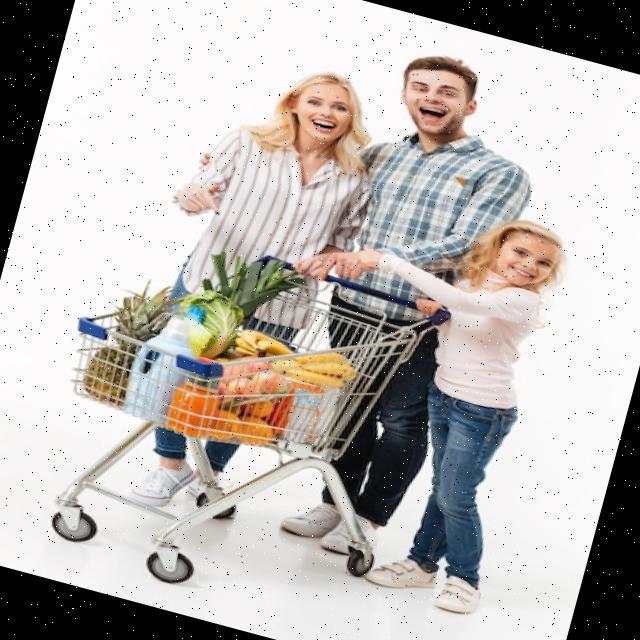Person: (252, 38, 558, 578), (93, 40, 400, 542), (274, 179, 576, 617)
